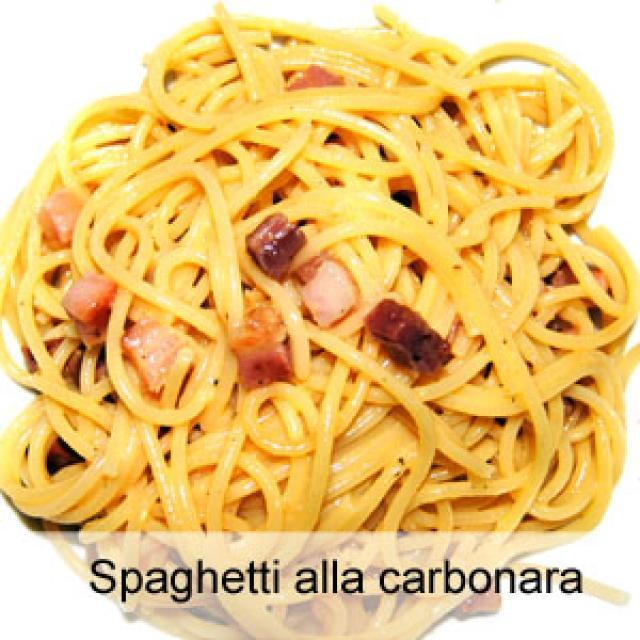Pasta with carbonara sauce: (17, 24, 623, 534)
